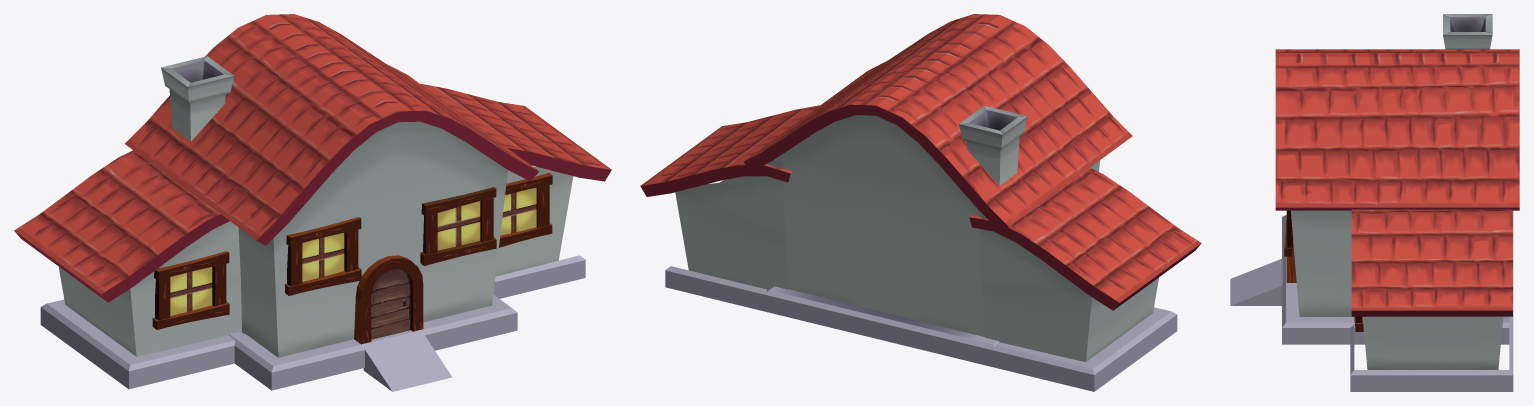
The model's file is house_1.gltf.
3 views of the same model, side by side, from view 1: azimuth 30°, elevation 25°; view 2: azimuth 150°, elevation 25°; view 3: azimuth 270°, elevation 25° (orthographic). The views are drawn at different scales.
Visible parts, largest first — view 1: HouseMesh, DoorMesh; view 2: HouseMesh; view 3: HouseMesh.
Part boxes in pixels (x1=…): HouseMesh: x1=14, y1=14, x2=611, y2=391; DoorMesh: x1=371, y1=269, x2=410, y2=339; HouseMesh: x1=640, y1=14, x2=1201, y2=391; HouseMesh: x1=1230, y1=14, x2=1519, y2=391.
Size of what is drawn, in the model's own units: 8.87 by 4.24 by 4.71.
Materials: 1 (1 with a texture image).
